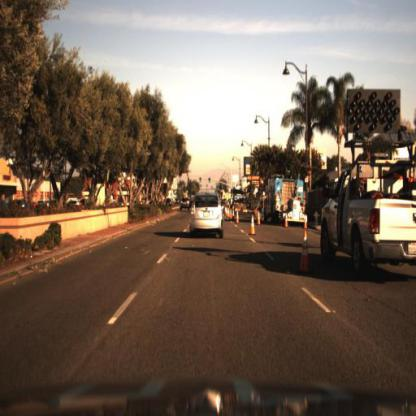car: (189, 189, 226, 239), (226, 181, 260, 222), (180, 196, 193, 217)
pedestrian: (259, 187, 269, 227)
truck: (267, 176, 310, 231), (231, 189, 254, 216)
